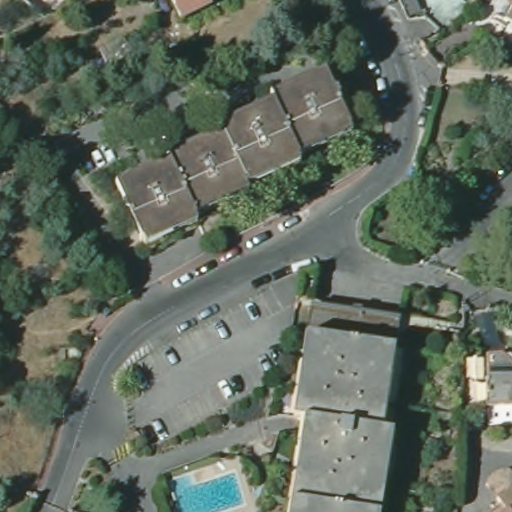pool: (168, 467, 246, 512)
